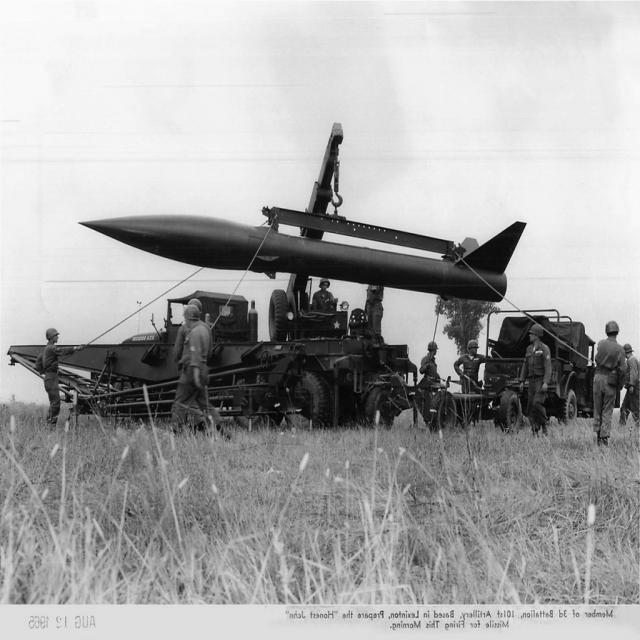missile: (79, 209, 544, 299)
